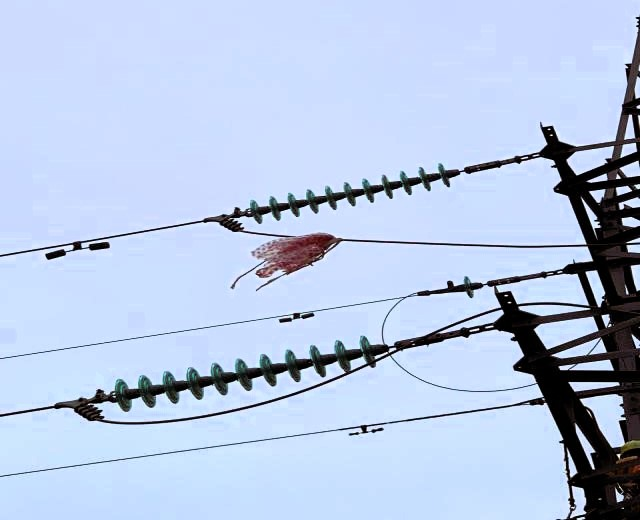wire foreign body: (238, 222, 353, 298)
